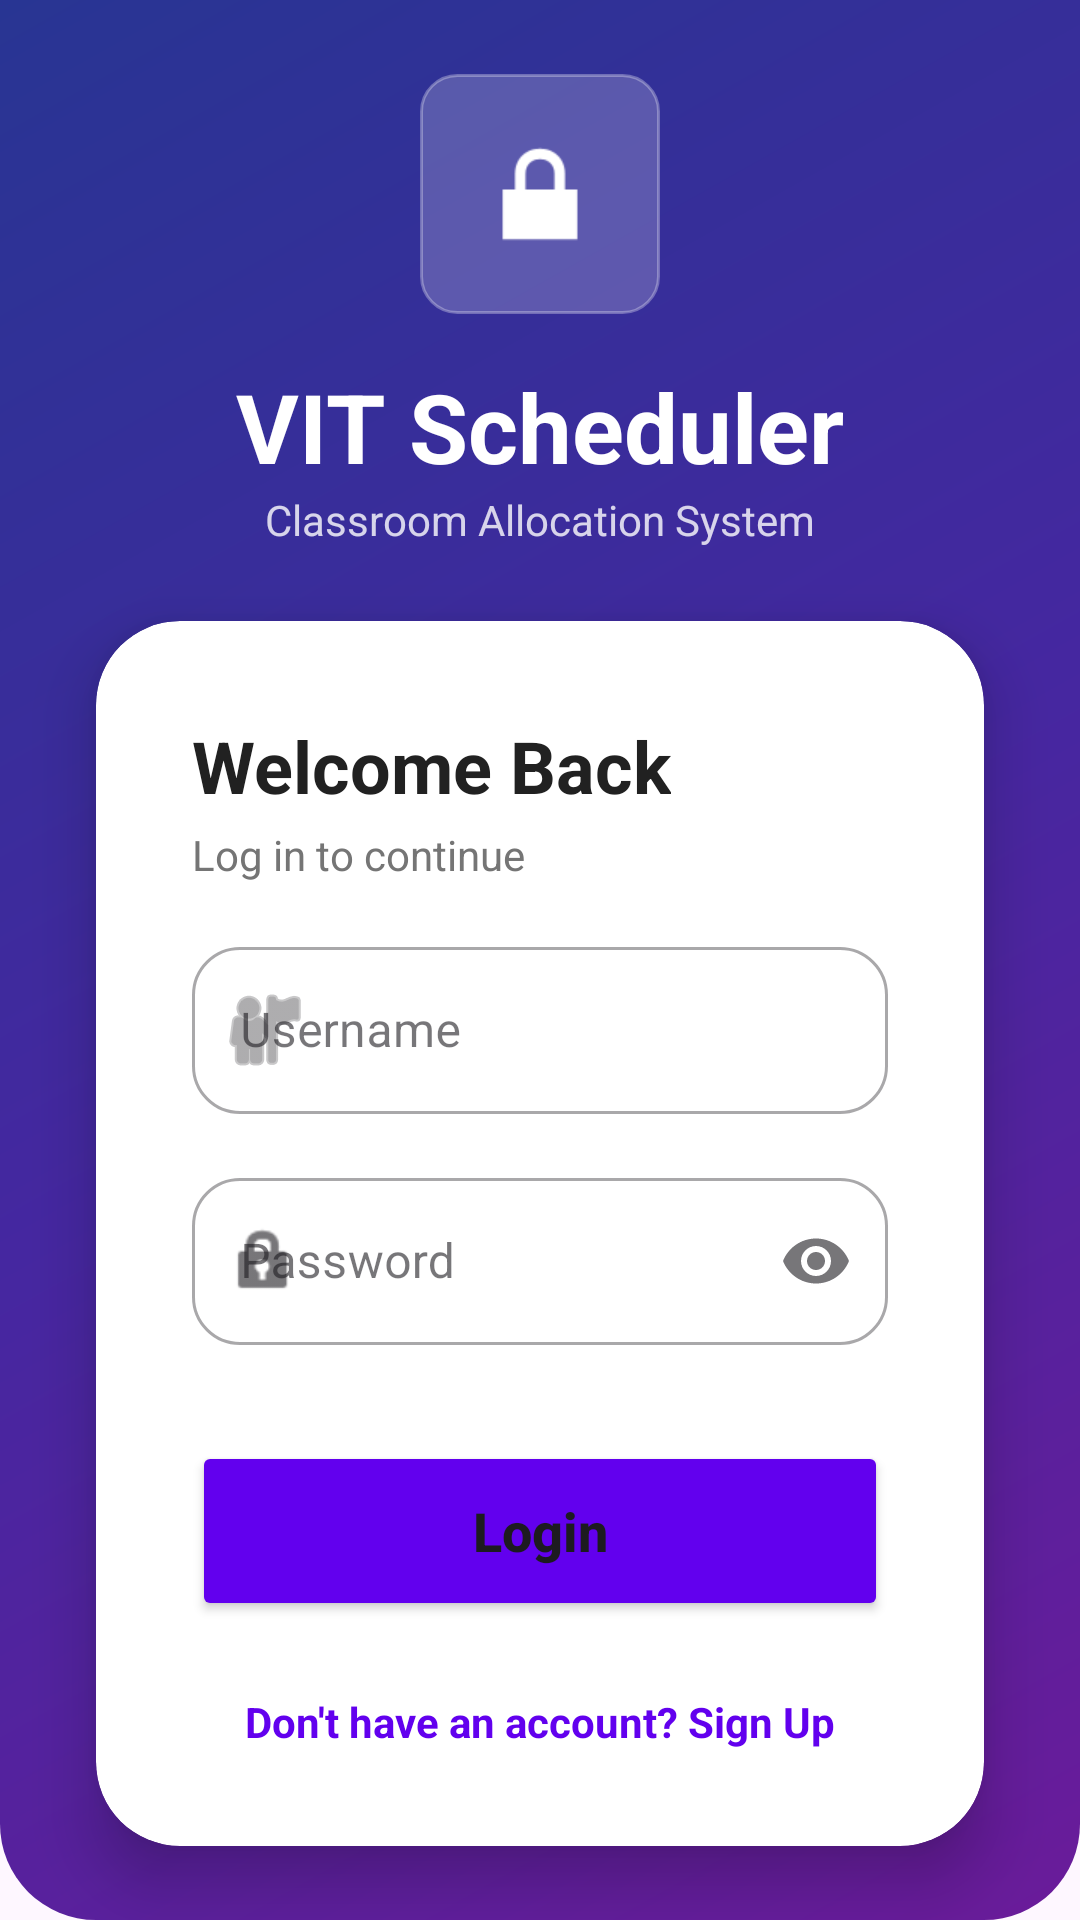

Named icons in this screenshot (1080px x 1920px) and their centers, point (x, y):
lock: point (540, 194)
